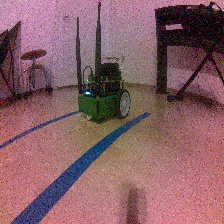rob: (76, 61, 131, 120)
